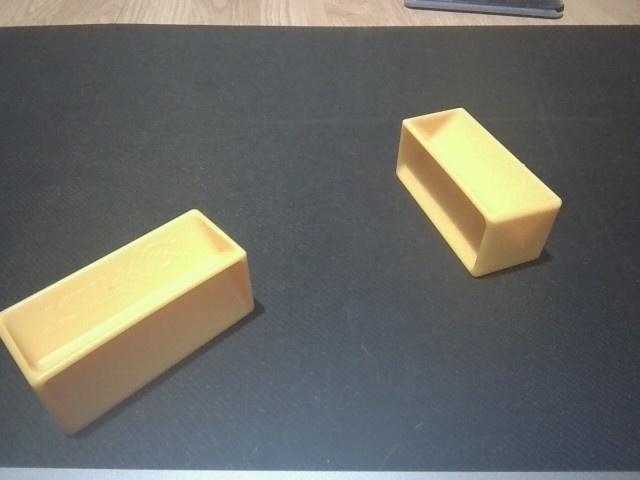YellowSample: (1, 206, 258, 441), (390, 103, 566, 280)
